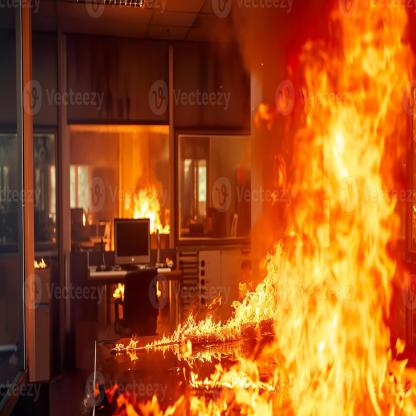fire: (108, 1, 416, 416), (119, 174, 177, 242)
smoke: (229, 0, 317, 98)
